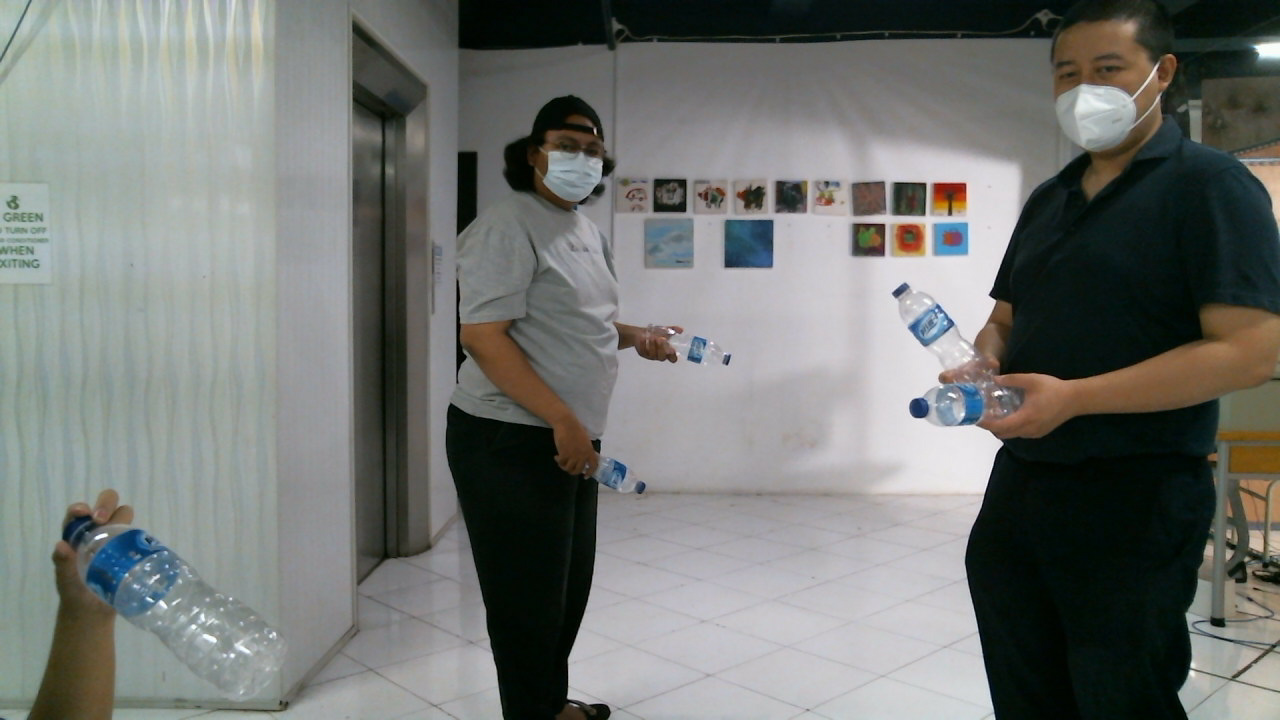Bottle: (59, 515, 291, 696), (891, 281, 993, 388), (909, 385, 1025, 427), (587, 451, 651, 497)
